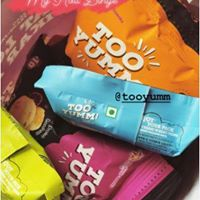plastic: (3, 56, 198, 200)
tooyumm: (75, 12, 159, 80), (62, 142, 107, 199), (61, 96, 101, 125)
wrapper: (14, 7, 175, 175)
